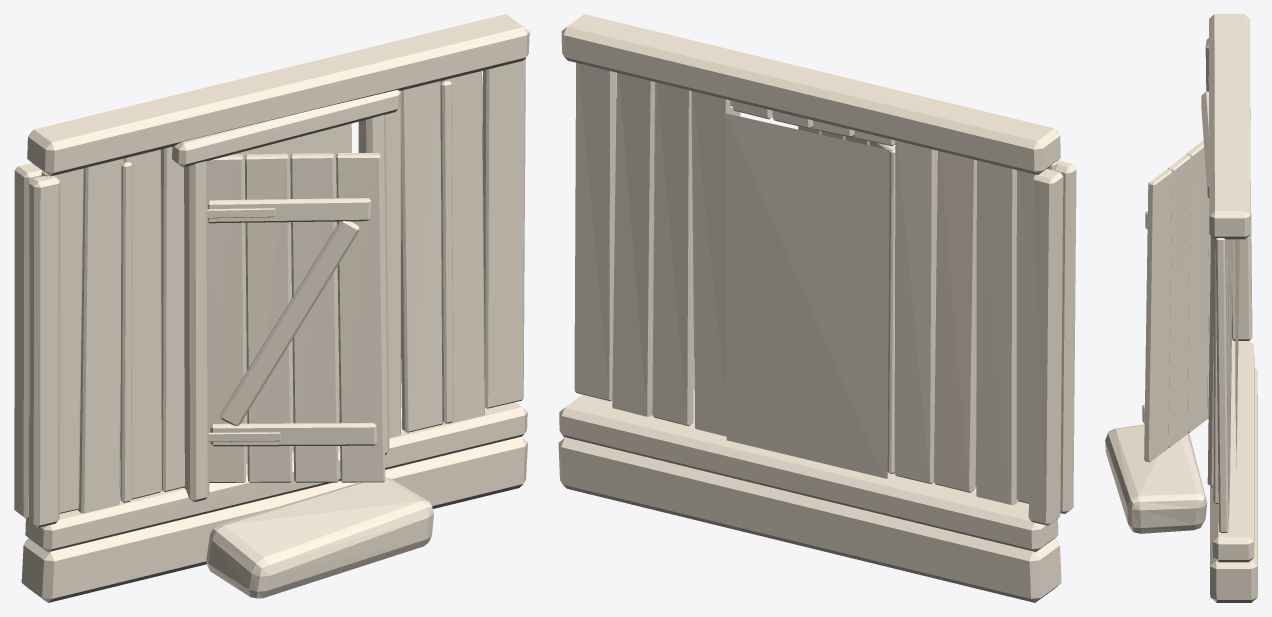
File: SM_VK_Wall_Shed_Door_Raised.fbx
3 renders of one model, left to right at view 1: azimuth 30°, elevation 25°; view 2: azimuth 150°, elevation 25°; view 3: azimuth 270°, elevation 25°, orthographic. The views are drawn at different scales.
Visible parts, largest first — view 1: SM_VK_Wall_Shed_Door_Raised.001; view 2: SM_VK_Wall_Shed_Door_Raised.001; view 3: SM_VK_Wall_Shed_Door_Raised.001.
Part boxes in pixels (x1=…): SM_VK_Wall_Shed_Door_Raised.001: x1=14, y1=14, x2=529, y2=602; SM_VK_Wall_Shed_Door_Raised.001: x1=558, y1=14, x2=1076, y2=602; SM_VK_Wall_Shed_Door_Raised.001: x1=1105, y1=14, x2=1257, y2=602.
Bounding box in the file's own units: 3.09 × 2.73 × 0.9607.
